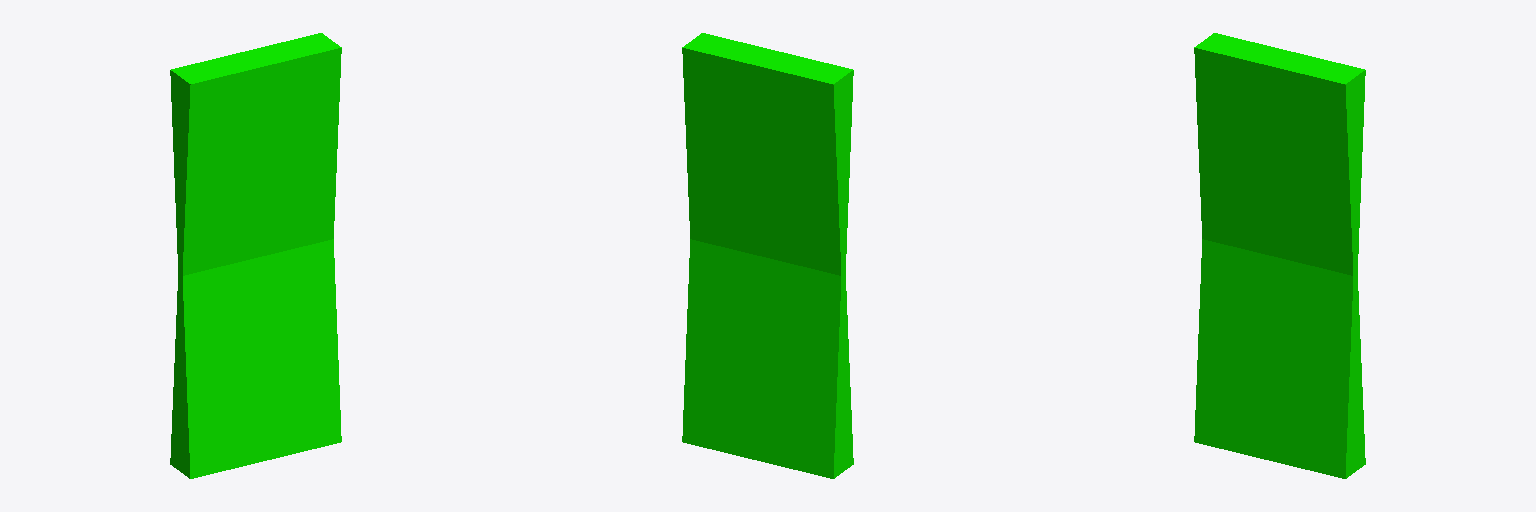
3 renders of one model, left to right at view 1: azimuth 30°, elevation 25°; view 2: azimuth 150°, elevation 25°; view 3: azimuth 330°, elevation 25°, orthographic.
Parts seen in each view (by area): view 1: Screw; view 2: Screw; view 3: Screw.
Part boxes in pixels (x1,y1,x2,y2): Screw: (170, 33, 341, 478); Screw: (682, 33, 853, 478); Screw: (1194, 33, 1365, 478).
Size of the model in its own units: 0.52 by 1.3 by 0.1208.
Materials: 1 (1 with a texture image).